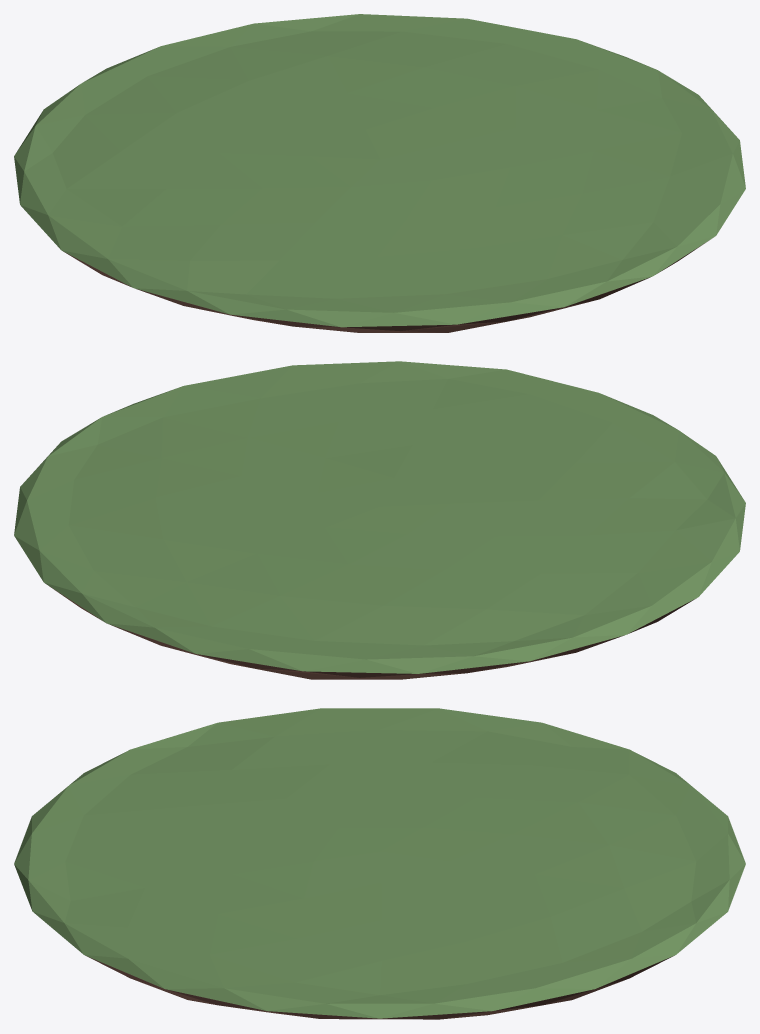
The model's file is PiePlatform.fbx.
3 renders of one model, top to bottom at view 1: azimuth 30°, elevation 25°; view 2: azimuth 150°, elevation 25°; view 3: azimuth 270°, elevation 25°, orthographic.
Visible parts, largest first — view 1: land pad; view 2: land pad; view 3: land pad.
Part boxes in pixels (box(x1,y1,x2,y2)): land pad: box(14, 14, 745, 332); land pad: box(14, 361, 745, 679); land pad: box(14, 708, 745, 1019).
Size of the model in its own units: 1537 by 1537 by 219.
